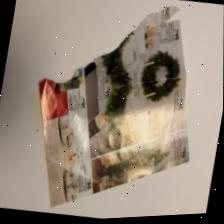paper: (24, 0, 220, 223)
